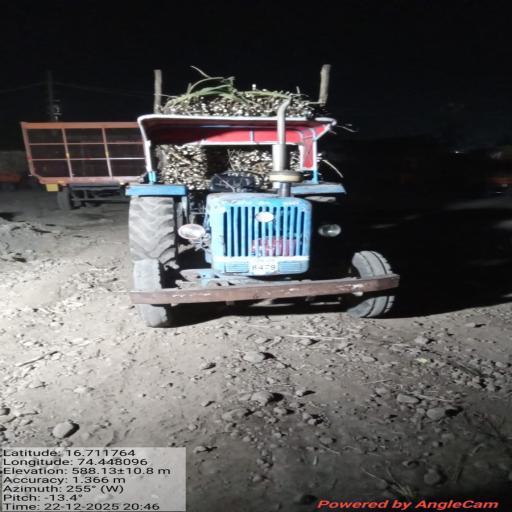number_plate: (245, 258, 292, 279)
